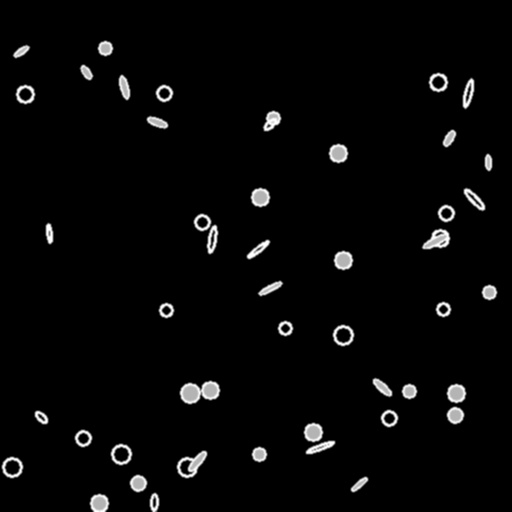pseudomonas: (462, 187, 486, 211), (246, 239, 270, 259), (422, 232, 448, 250), (187, 450, 207, 472), (371, 377, 393, 397), (461, 79, 475, 107), (306, 440, 334, 454), (258, 280, 282, 296), (146, 115, 168, 129), (350, 476, 368, 492), (118, 75, 130, 99), (207, 226, 217, 252), (262, 116, 278, 132), (33, 409, 49, 425), (442, 129, 456, 147), (79, 64, 93, 80), (13, 44, 29, 58), (45, 224, 53, 242), (150, 494, 158, 510), (485, 154, 491, 170)
synechocystis: (112, 445, 130, 463), (334, 326, 352, 344), (3, 458, 21, 476), (181, 384, 199, 402), (178, 458, 196, 476), (430, 74, 446, 90), (17, 86, 33, 102), (432, 230, 448, 246), (305, 424, 321, 440), (252, 189, 268, 205), (91, 495, 107, 511), (330, 145, 346, 161), (202, 382, 218, 398), (448, 385, 464, 401), (335, 252, 351, 268), (195, 215, 209, 229), (157, 86, 171, 100), (382, 411, 396, 425), (439, 206, 453, 220), (131, 476, 145, 490), (448, 408, 462, 422), (76, 431, 90, 445), (160, 304, 172, 316), (279, 322, 291, 334), (99, 42, 111, 54), (483, 286, 495, 298), (437, 303, 449, 315), (403, 385, 415, 397), (253, 448, 265, 460), (267, 112, 279, 124)
